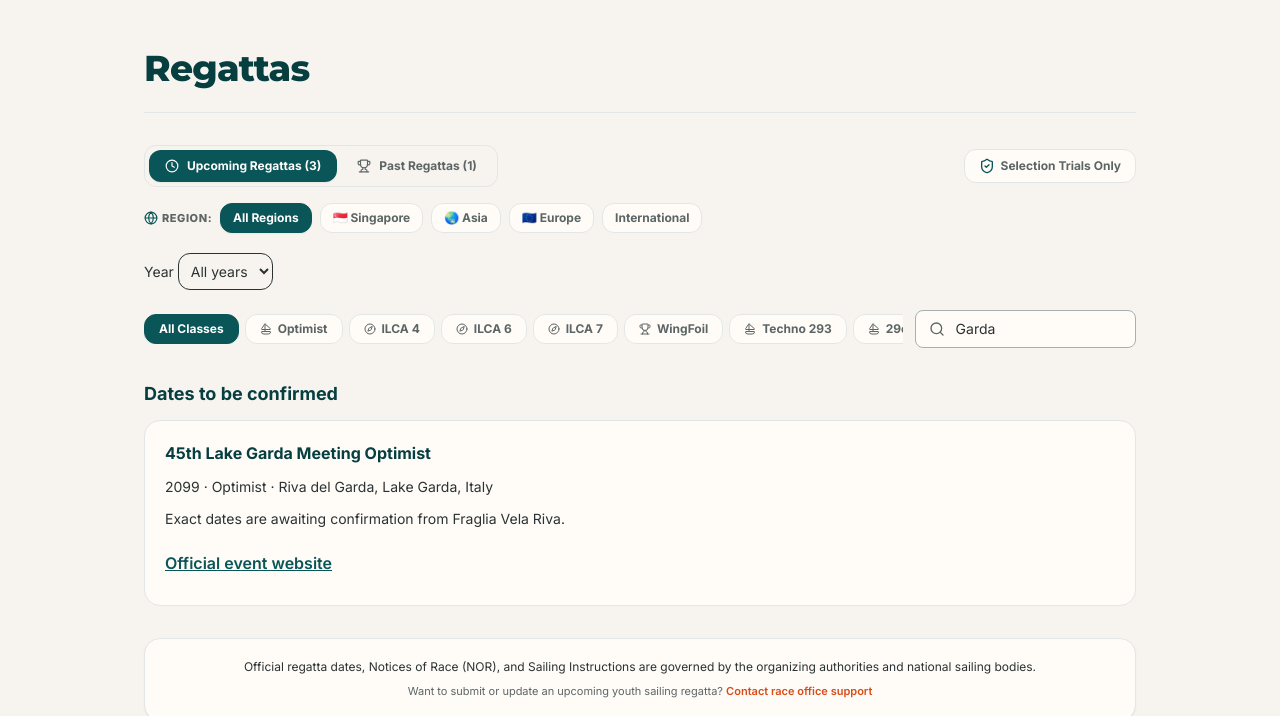
it: RegattaCalendarClient › applies calendar region and class filters to undated events
Click the button "🇸🇬 Singapore". click: (372, 218)
box: x1=320 y1=203 x2=423 y2=233
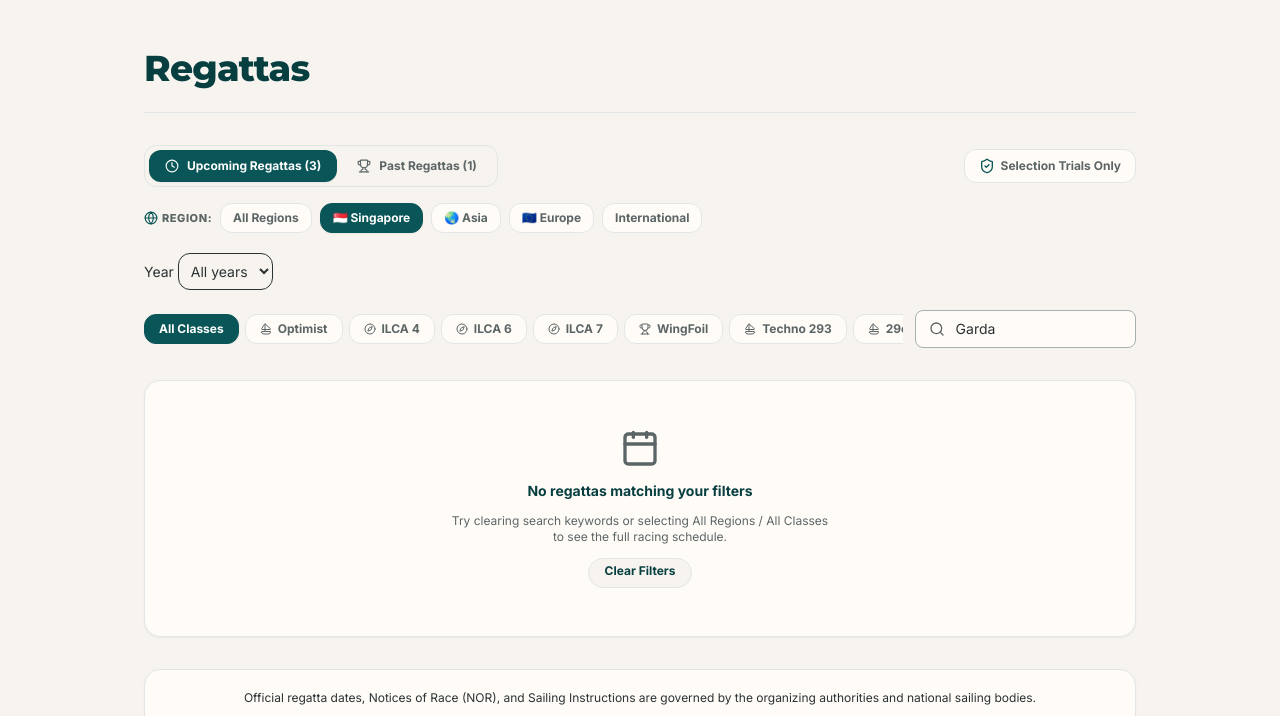
Result: the link "45th Lake Garda Meeting Optimist" is gone
Click the button "All Regions". click: (266, 218)
box: x1=220 y1=203 x2=312 y2=233
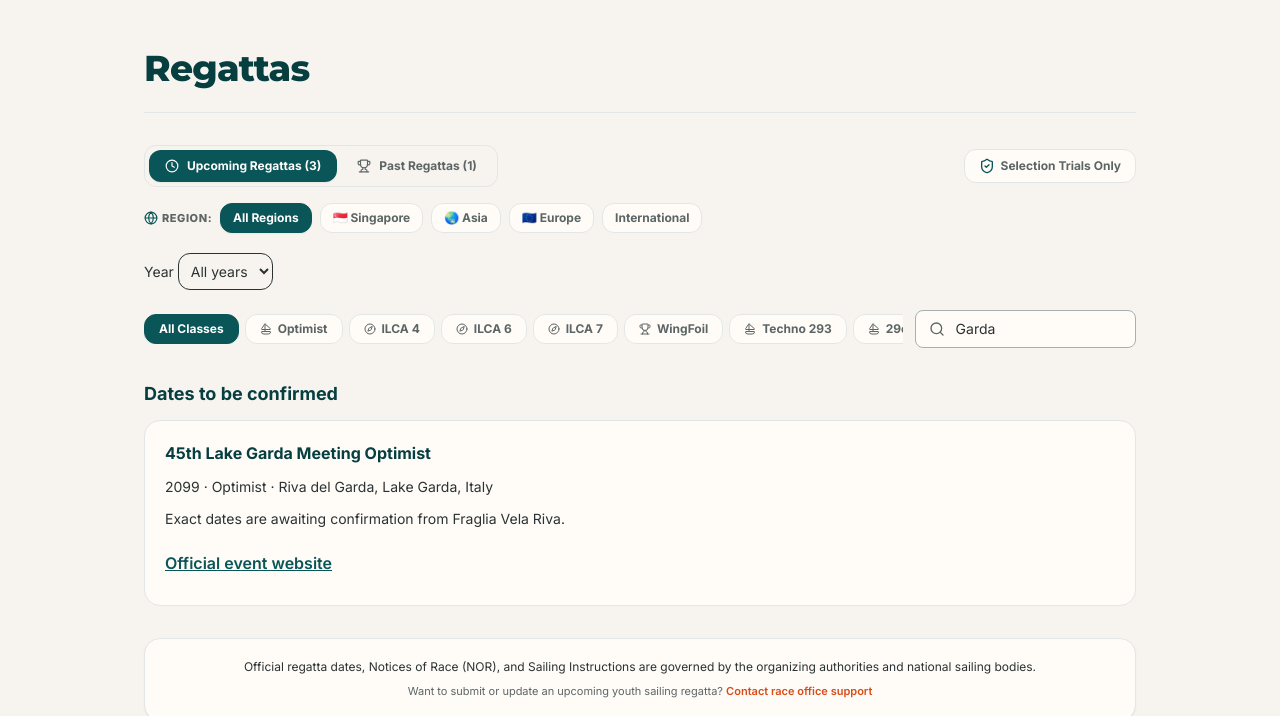
Result: the link "45th Lake Garda Meeting Optimist" is shown at x1=165 y1=443 x2=431 y2=463
Click the button "ILCA 4". click: (392, 329)
box: x1=348 y1=314 x2=435 y2=344
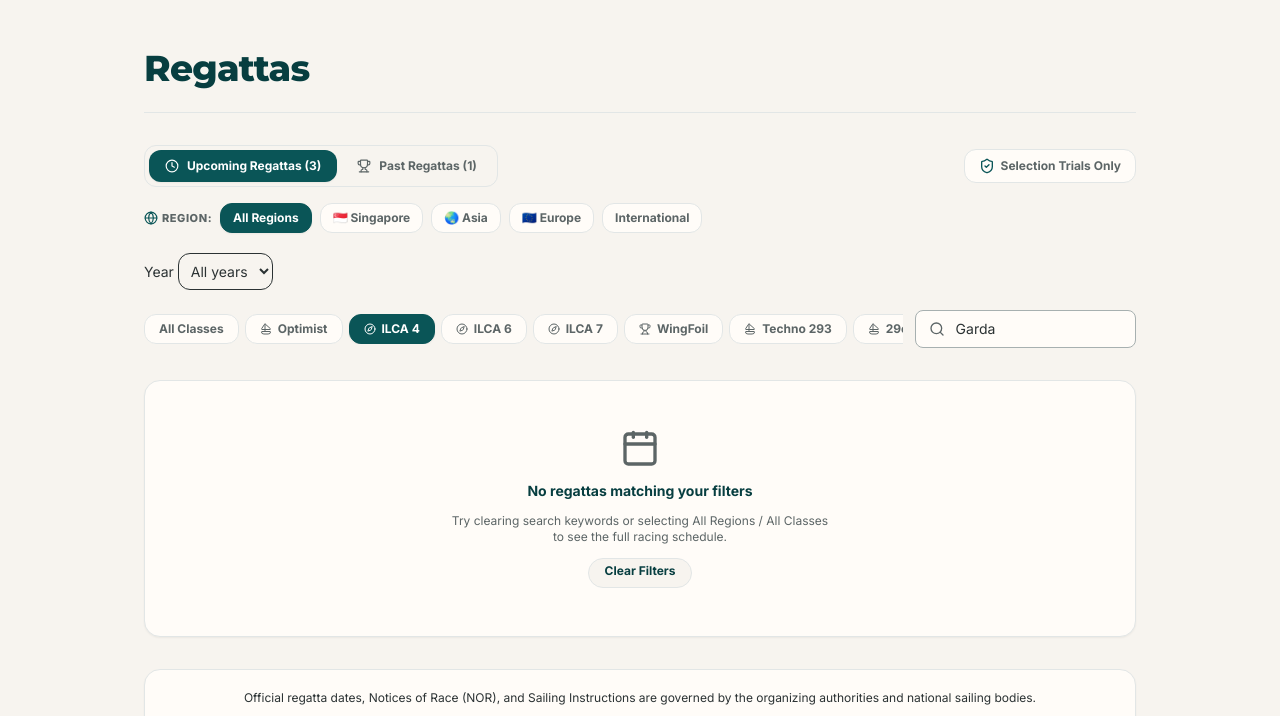
Result: the link "45th Lake Garda Meeting Optimist" is gone
